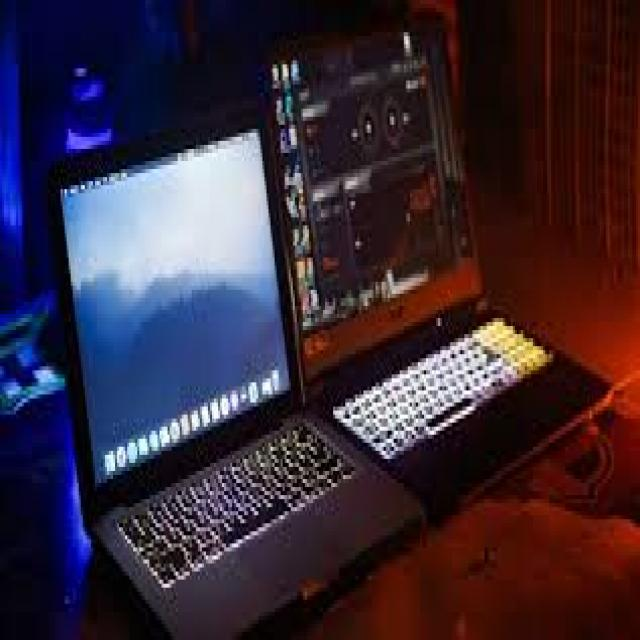others: (36, 20, 614, 640)
